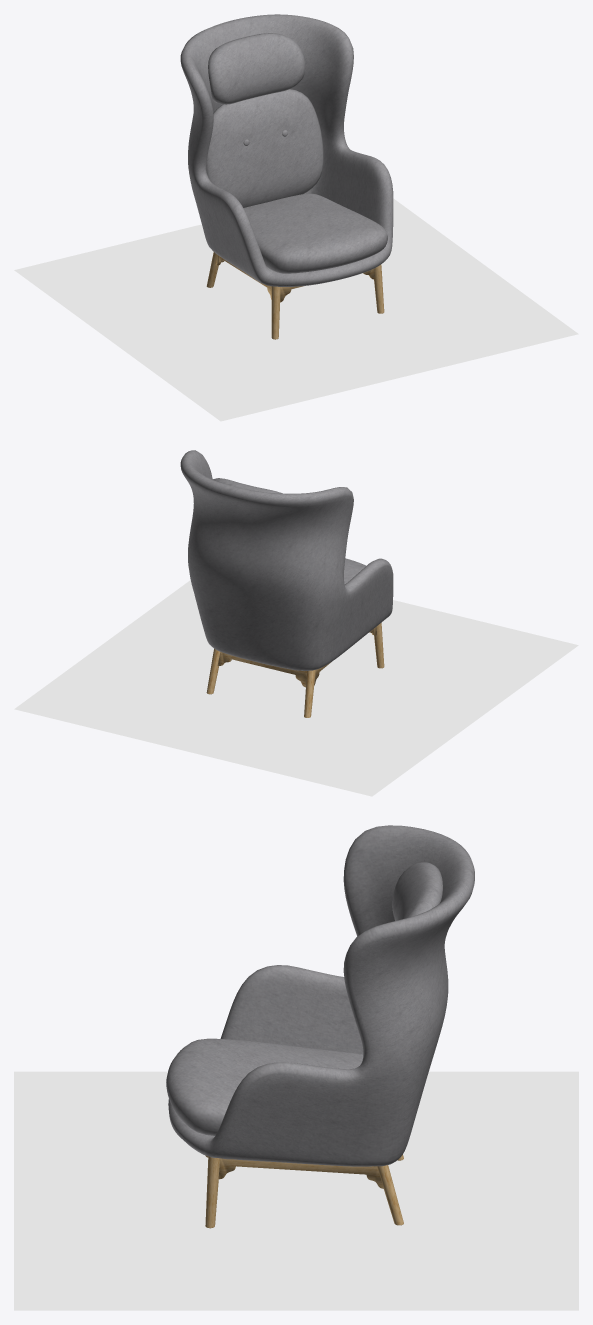
Rendered from an_another_armchair.glb.
3 renders of one model, top to bottom at view 1: azimuth 30°, elevation 25°; view 2: azimuth 150°, elevation 25°; view 3: azimuth 270°, elevation 25°, orthographic. The views are drawn at different scales.
Parts seen in each view (by area): view 1: ground, structure_low, dossier_low, assise_low, tete_low, pieds_low; view 2: ground, structure_low, pieds_low, renforts_frontback_low; view 3: ground, structure_low, assise_low, tete_low, pieds_low, renforts_lat_low.
Boxes of the visible parts, x1,y1,x2,y2 form: ground: [14, 198, 578, 421]; structure_low: [180, 14, 393, 286]; dossier_low: [206, 89, 323, 207]; assise_low: [243, 193, 387, 273]; tete_low: [208, 33, 305, 104]; pieds_low: [206, 252, 384, 339]; ground: [14, 580, 578, 796]; structure_low: [180, 450, 393, 670]; pieds_low: [206, 623, 384, 717]; renforts_frontback_low: [217, 652, 306, 687]; ground: [14, 1071, 578, 1310]; structure_low: [168, 825, 474, 1166]; assise_low: [166, 1038, 363, 1135]; tete_low: [392, 862, 442, 920]; pieds_low: [205, 1154, 403, 1228]; renforts_lat_low: [218, 1158, 383, 1188].
Bounding box in the file's own units: 2 × 1.26 × 2.
Materials: 3 (3 with a texture image).
